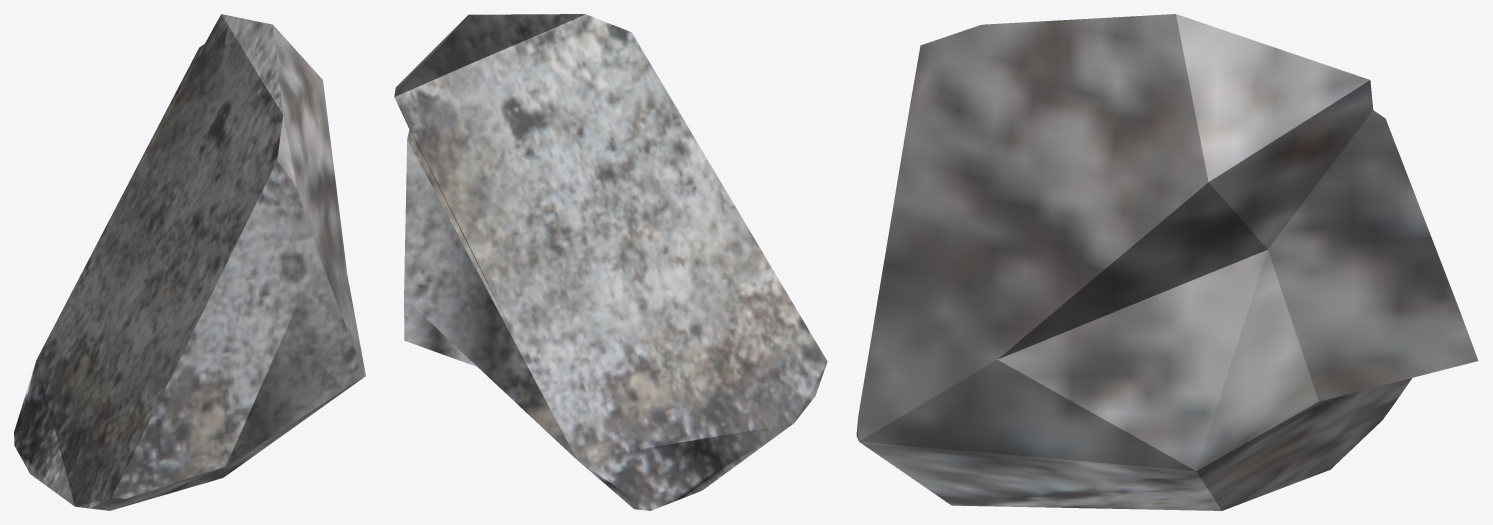
The model's file is Asteroid_Small_001_03_001.fbx.
3 renders of one model, left to right at view 1: azimuth 30°, elevation 25°; view 2: azimuth 150°, elevation 25°; view 3: azimuth 270°, elevation 25°, orthographic. The views are drawn at different scales.
Parts seen in each view (by area): view 1: Asteroid_Small_001_03_001; view 2: Asteroid_Small_001_03_001; view 3: Asteroid_Small_001_03_001.
Part boxes in pixels (x1,y1,x2,y2): Asteroid_Small_001_03_001: (14,14,365,510); Asteroid_Small_001_03_001: (394,14,827,510); Asteroid_Small_001_03_001: (856,14,1478,510).
Size of the model in its own units: 5.33 by 6.39 by 5.72.
